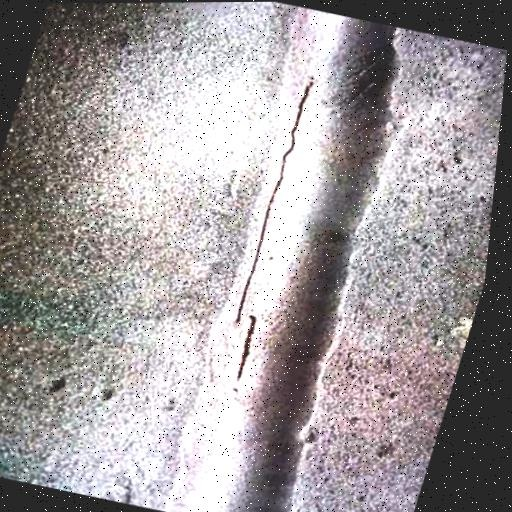crack: (221, 67, 330, 330), (229, 303, 271, 379)
